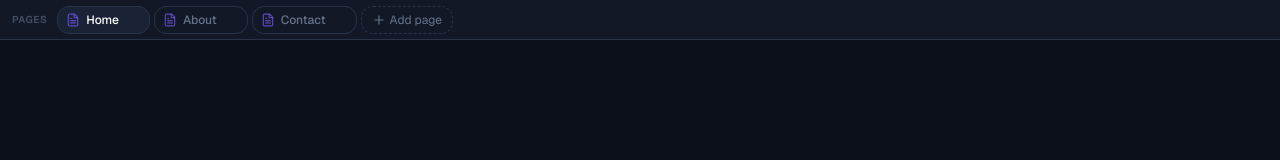
Scenario: PageTabs adding › cancels the rename on Escape without adding a title change
This screenshot has width=1280, height=160.
Click the button with test id "page-tab-add" at [407, 20], box [361,6,453,34]
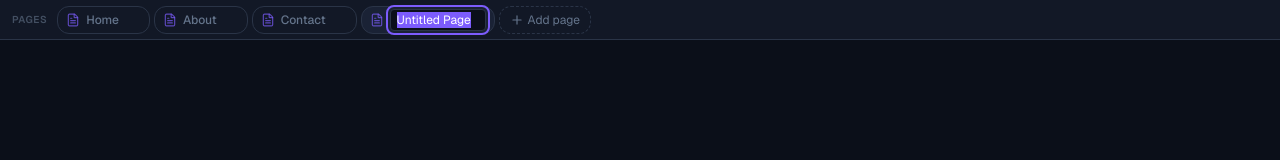
Replace the text in the field with test id "page-rename-input" with "Canceled" at [438, 20], box [390,8,486,30]
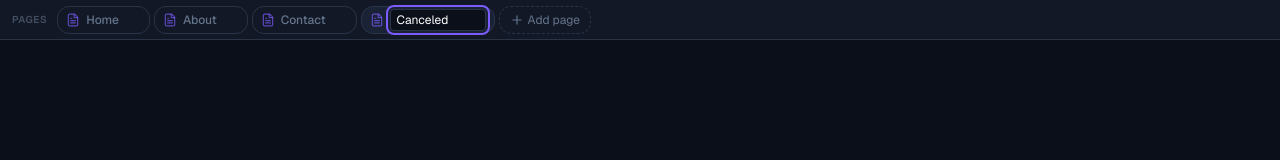
Press Escape in the field with test id "page-rename-input", box [390,8,486,30]
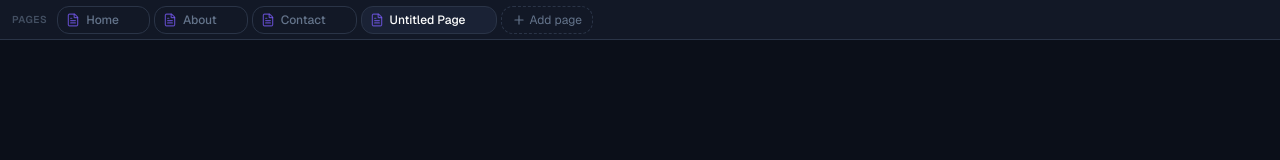
Now the text "Untitled Page" is shown, box [390,12,466,28]
